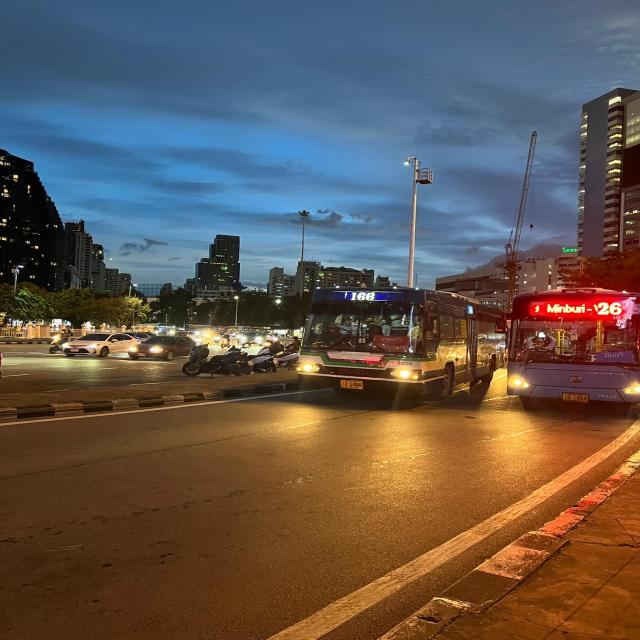BMTA-bus: (293, 282, 509, 403), (504, 286, 640, 408)
Bus-Line-Number: (596, 300, 625, 316), (348, 291, 378, 302)
Destination-Sign-Extra-Bus: (372, 335, 410, 353)
Destination-Sign-Normal: (596, 351, 634, 363)
